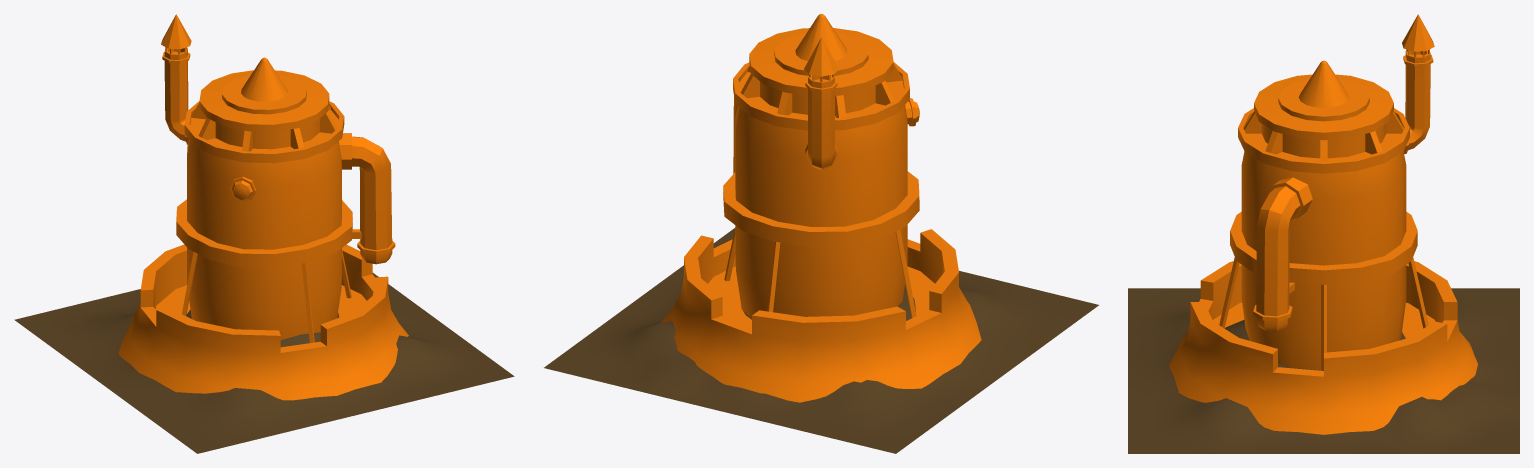
File: mo_ProductionTower.fbx
3 views of the same model, side by side, from view 1: azimuth 30°, elevation 25°; view 2: azimuth 150°, elevation 25°; view 3: azimuth 270°, elevation 25° (orthographic). The views are drawn at different scales.
Parts seen in each view (by area): view 1: productionTower_geo, ground_geo; view 2: productionTower_geo, ground_geo; view 3: productionTower_geo, ground_geo.
Boxes of the visible parts, x1,y1,x2,y2 form: productionTower_geo: (118,14,408,400); ground_geo: (14,273,514,453); productionTower_geo: (661,14,981,402); ground_geo: (544,228,1098,453); productionTower_geo: (1169,14,1477,434); ground_geo: (1128,288,1519,453).
Size of the model in its own units: 2500 by 2353 by 2500.
